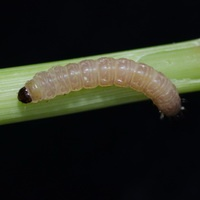insect: (18, 57, 180, 115)
